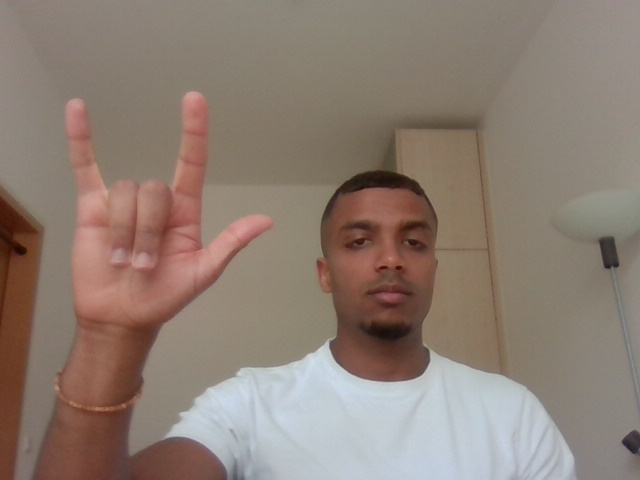absolutely: (44, 78, 288, 337)
